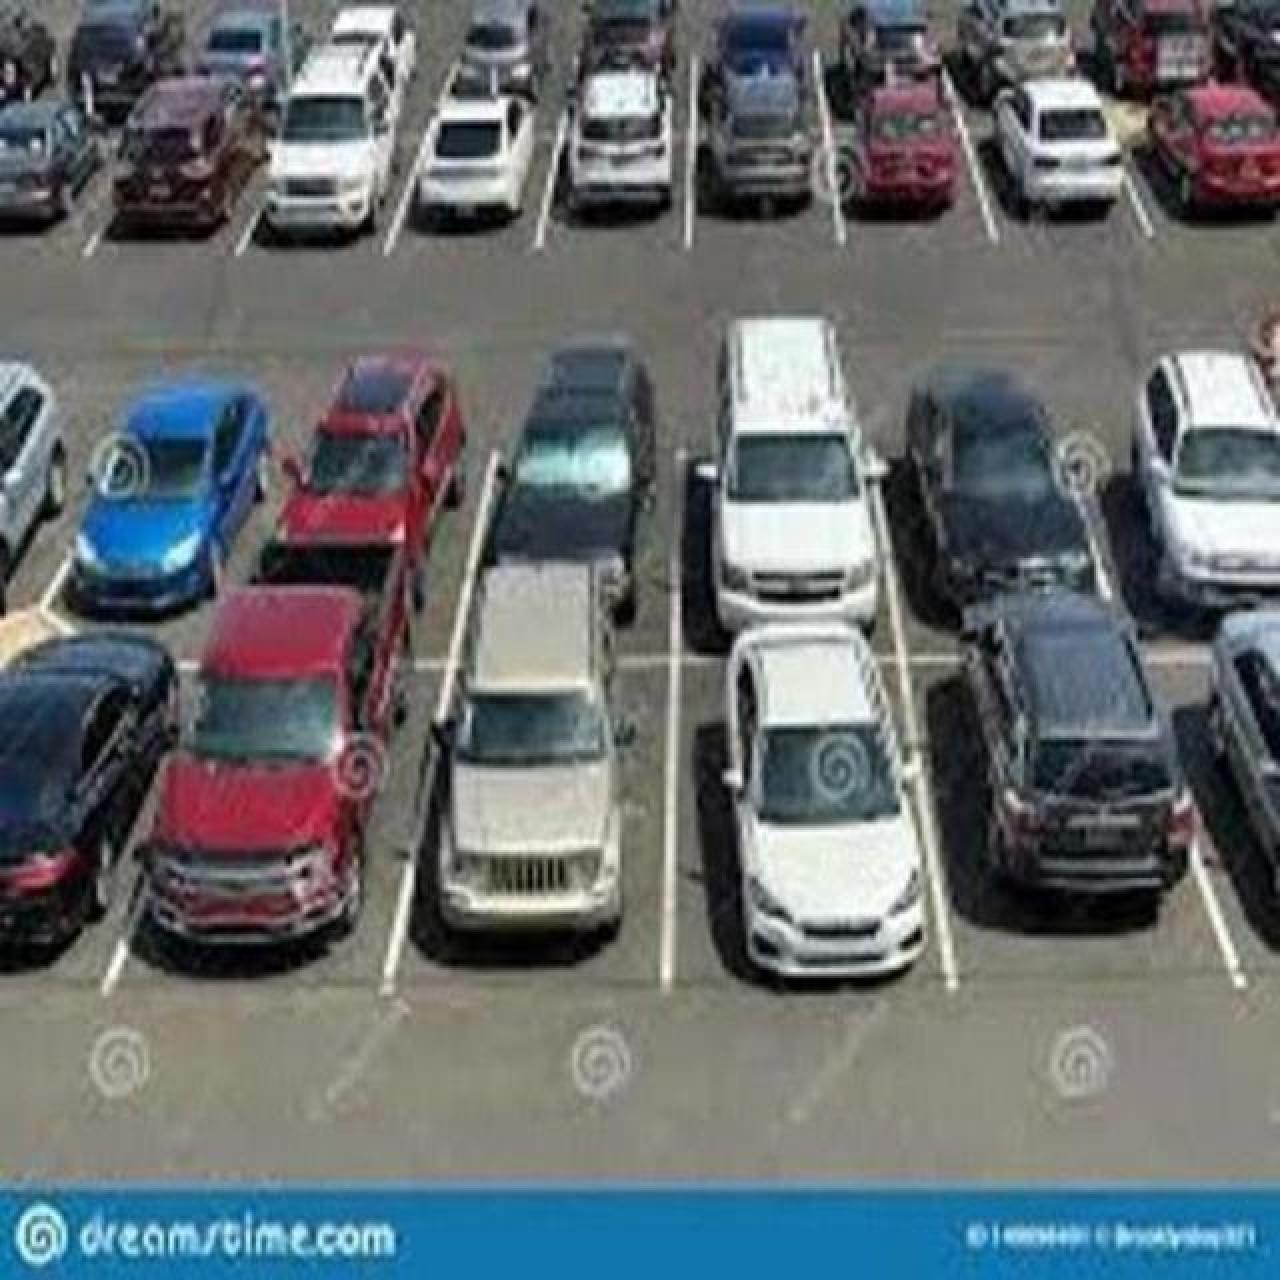car: (134, 580, 382, 954), (420, 556, 634, 944), (718, 618, 930, 982), (956, 586, 1194, 908), (688, 312, 892, 638), (0, 626, 180, 970), (900, 358, 1118, 636), (60, 376, 272, 620), (488, 336, 658, 616), (270, 348, 466, 556), (1128, 346, 1278, 612), (260, 42, 402, 240), (692, 4, 820, 214), (1200, 602, 1280, 916), (108, 70, 256, 234), (410, 58, 538, 230), (560, 44, 674, 218), (988, 74, 1124, 214), (1144, 80, 1278, 218), (830, 74, 960, 216), (0, 356, 68, 600), (948, 0, 1076, 104), (1088, 0, 1220, 100), (704, 2, 808, 126), (0, 98, 100, 226), (64, 0, 166, 124), (192, 6, 306, 110), (456, 0, 544, 102), (838, 0, 942, 84), (576, 0, 676, 76), (324, 2, 416, 84), (1210, 0, 1278, 94), (0, 6, 56, 110)
